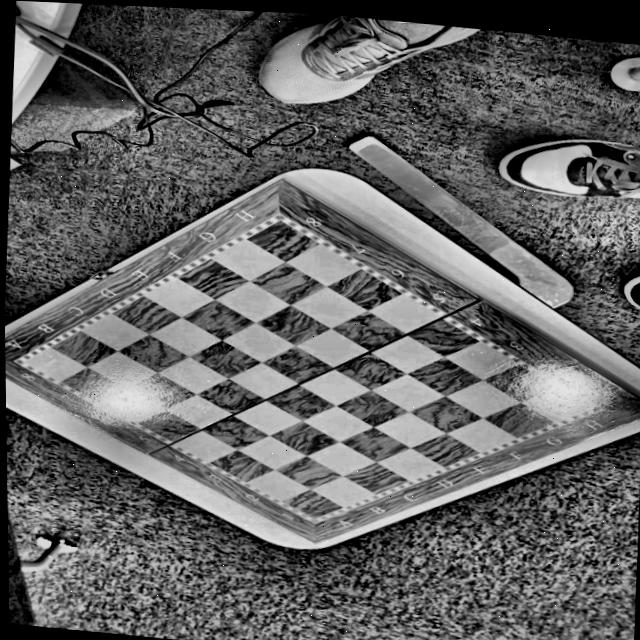chessboard: (5, 184, 640, 544)
